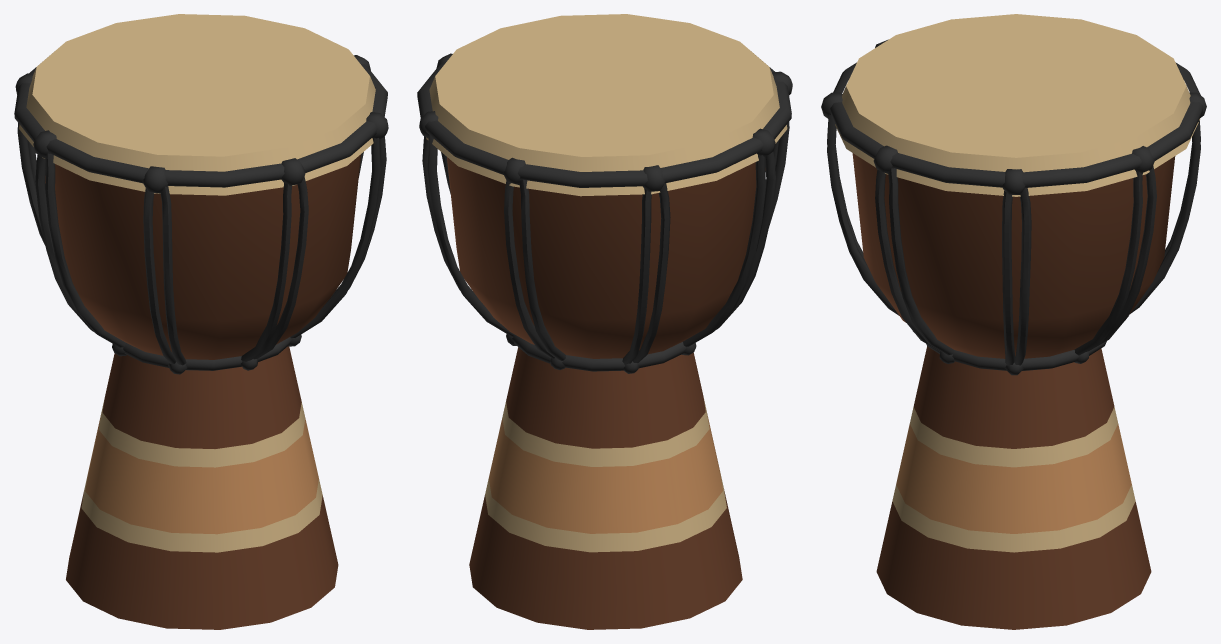
The model's file is CongaDrum_01.fbx.
3 views of the same model, side by side, from view 1: azimuth 30°, elevation 25°; view 2: azimuth 150°, elevation 25°; view 3: azimuth 270°, elevation 25° (orthographic).
Parts seen in each view (by area): view 1: CongaDrum_01; view 2: CongaDrum_01; view 3: CongaDrum_01.
Part boxes in pixels (x1,y1,x2,y2): CongaDrum_01: (14,14,388,629); CongaDrum_01: (417,14,792,629); CongaDrum_01: (821,14,1206,629).
Bounding box in the file's own units: 0.4664 × 0.6482 × 0.4664.
